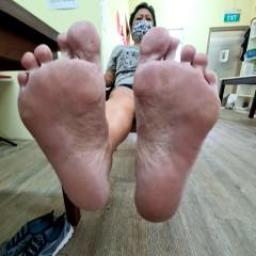Plantar View -Both Feet-: (6, 16, 241, 233)
